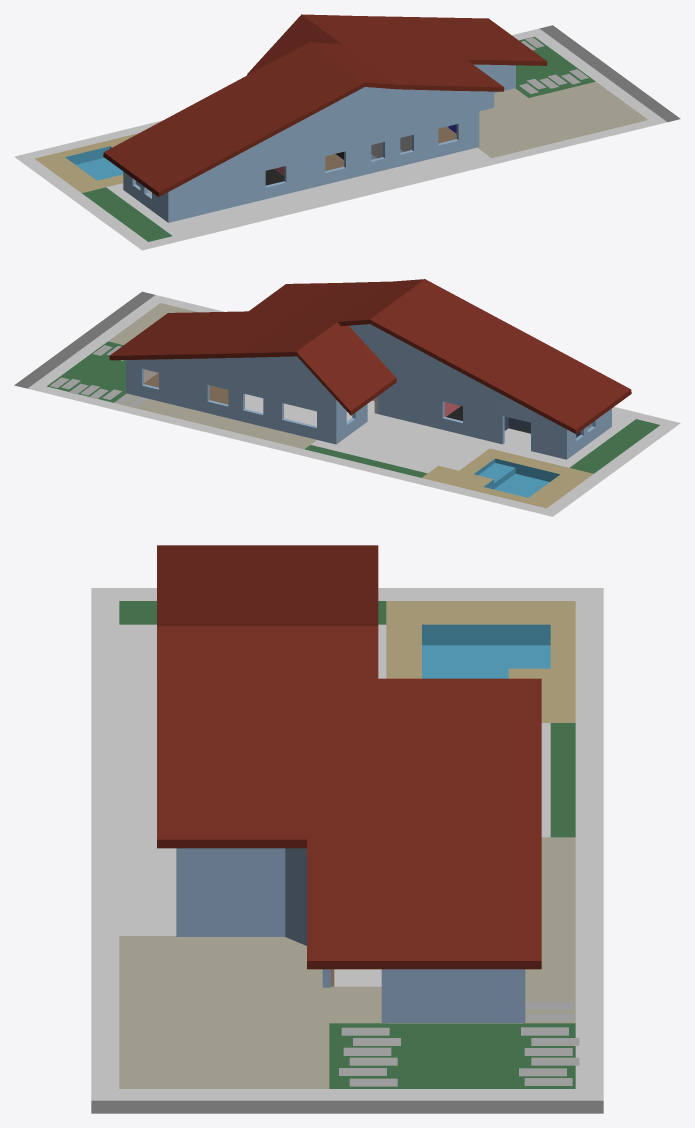
Rendered from HOUSE.fbx.
3 views of the same model, one above another, from view 1: azimuth 30°, elevation 25°; view 2: azimuth 150°, elevation 25°; view 3: azimuth 270°, elevation 25° (orthographic). The views are drawn at different scales.
Parts seen in each view (by area): view 1: roof, Plane.001, walls, wallsUp, Plane; view 2: roof, Plane.001, walls, wallsUp, Plane; view 3: Plane.001, roof, walls, wallsUp, Plane.
Boxes of the visible parts, x1=… form: roof: x1=103, y1=14, x2=547, y2=197; Plane.001: x1=14, y1=25, x2=680, y2=250; walls: x1=123, y1=65, x2=515, y2=222; wallsUp: x1=176, y1=64, x2=494, y2=187; Plane: x1=265, y1=126, x2=456, y2=185; roof: x1=109, y1=279, x2=631, y2=434; Plane.001: x1=14, y1=291, x2=680, y2=516; walls: x1=126, y1=360, x2=611, y2=459; wallsUp: x1=126, y1=324, x2=556, y2=424; Plane: x1=144, y1=373, x2=592, y2=450; Plane.001: x1=91, y1=588, x2=603, y2=1113; roof: x1=157, y1=545, x2=541, y2=969; walls: x1=176, y1=871, x2=525, y2=1022; wallsUp: x1=176, y1=848, x2=306, y2=879; Plane: x1=330, y1=969, x2=381, y2=986.
Size of the model in its own units: 10877 by 2081 by 4481.
